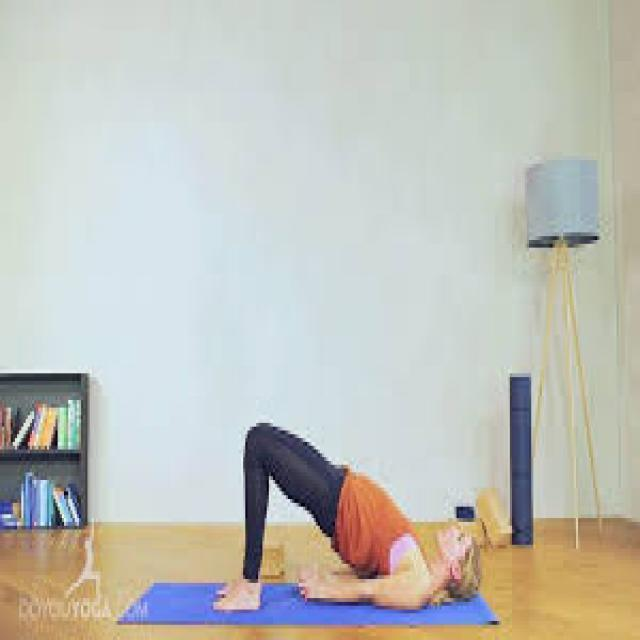yoga-pose bridge: (215, 398, 490, 614)
